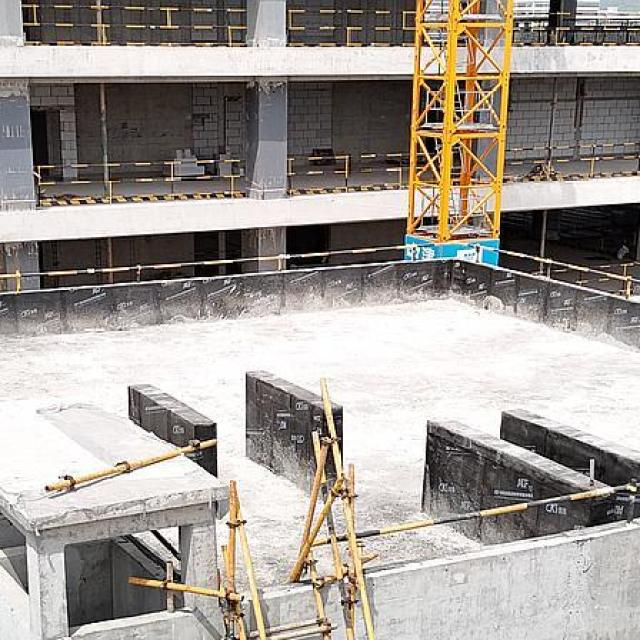edge_guardrail: (0, 240, 640, 300), (310, 477, 640, 549), (20, 0, 249, 47), (36, 159, 246, 207), (286, 152, 435, 197), (503, 140, 640, 181), (286, 8, 416, 48), (511, 12, 640, 47), (529, 262, 635, 284)
